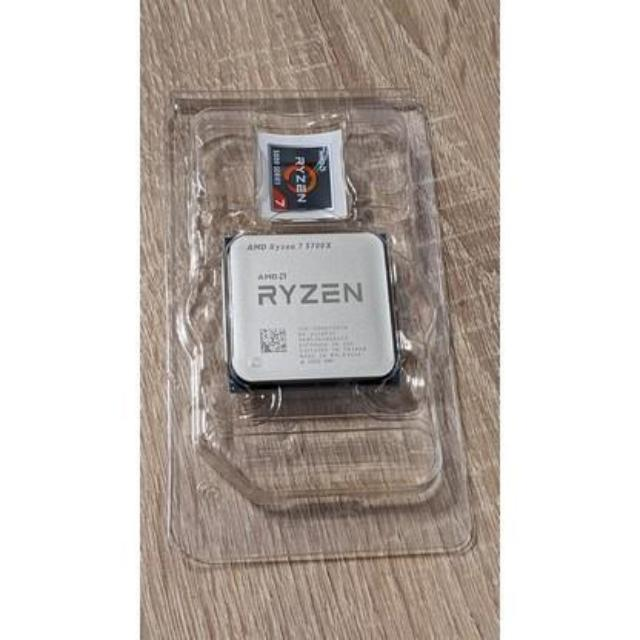CPU: (224, 236, 396, 388)
